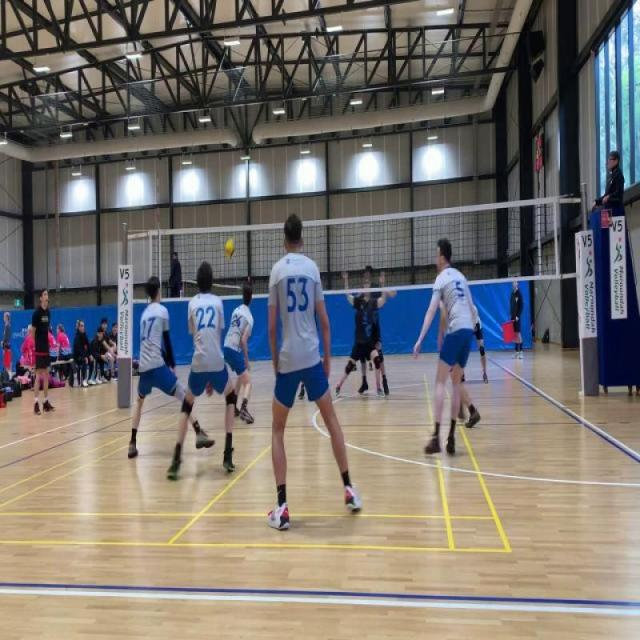volleyball: (222, 236, 238, 260)
